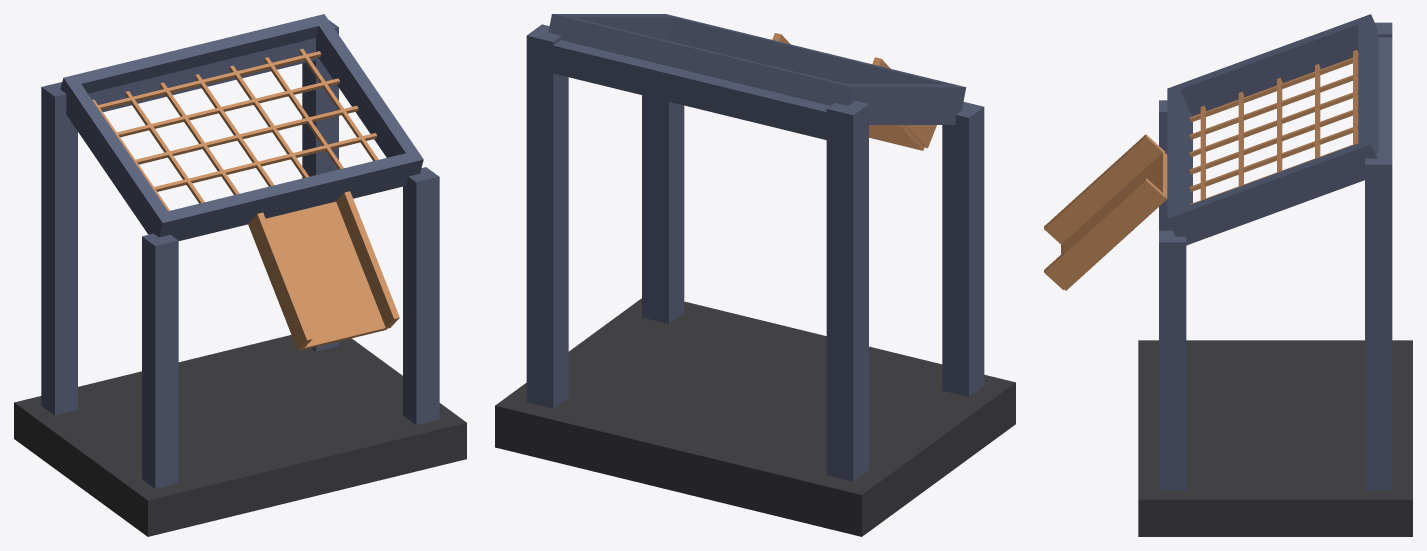
Rendered from MillSieve.fbx.
The picture shows the model from 3 angles, left to right: view 1: azimuth 30°, elevation 25°; view 2: azimuth 150°, elevation 25°; view 3: azimuth 270°, elevation 25°; orthographic projection. The views are drawn at different scales.
Visible parts, largest first — view 1: mill_sv_base, mill_sv_frame, mill_sv_rim, mill_sv_chute, mill_sv_tray; view 2: mill_sv_base, mill_sv_frame, mill_sv_rim, mill_sv_chute; view 3: mill_sv_base, mill_sv_rim, mill_sv_frame, mill_sv_chute, mill_sv_tray.
Boxes of the visible parts, <box> form: mill_sv_base: <box>14,335,466,536</box>; mill_sv_frame: <box>41,20,439,488</box>; mill_sv_rim: <box>60,14,423,240</box>; mill_sv_chute: <box>248,191,399,350</box>; mill_sv_tray: <box>92,48,378,211</box>; mill_sv_base: <box>495,298,1015,536</box>; mill_sv_frame: <box>526,24,984,481</box>; mill_sv_rim: <box>548,14,966,124</box>; mill_sv_chute: <box>772,33,936,150</box>; mill_sv_base: <box>1138,340,1412,536</box>; mill_sv_rim: <box>1167,14,1378,245</box>; mill_sv_frame: <box>1159,22,1392,490</box>; mill_sv_chute: <box>1044,134,1167,290</box>; mill_sv_tray: <box>1189,50,1358,204</box>.
Bounding box in the file's own units: 1.1 × 1.22 × 1.08.
